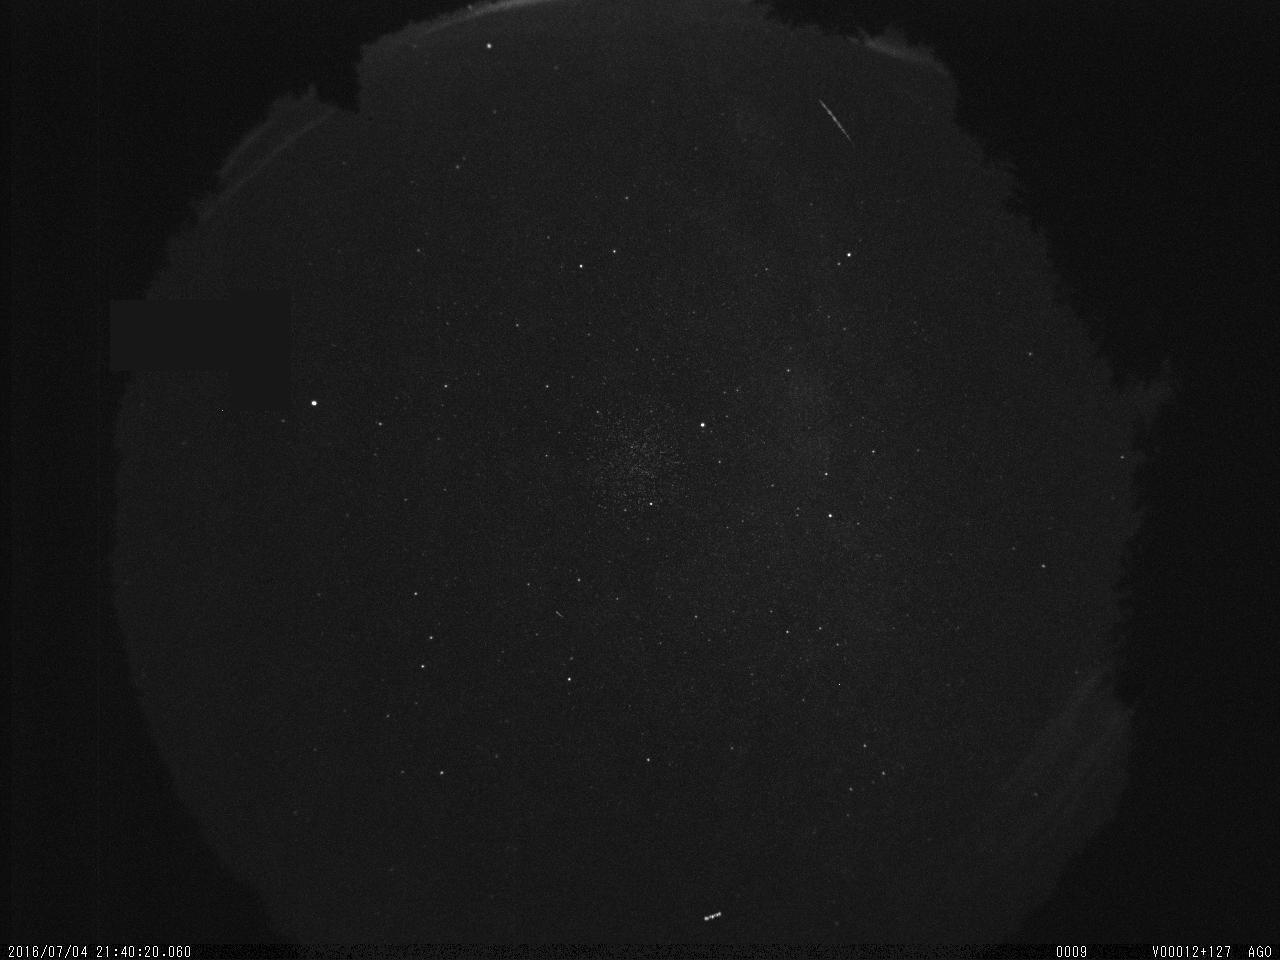Meteor: (818, 96, 856, 148)
